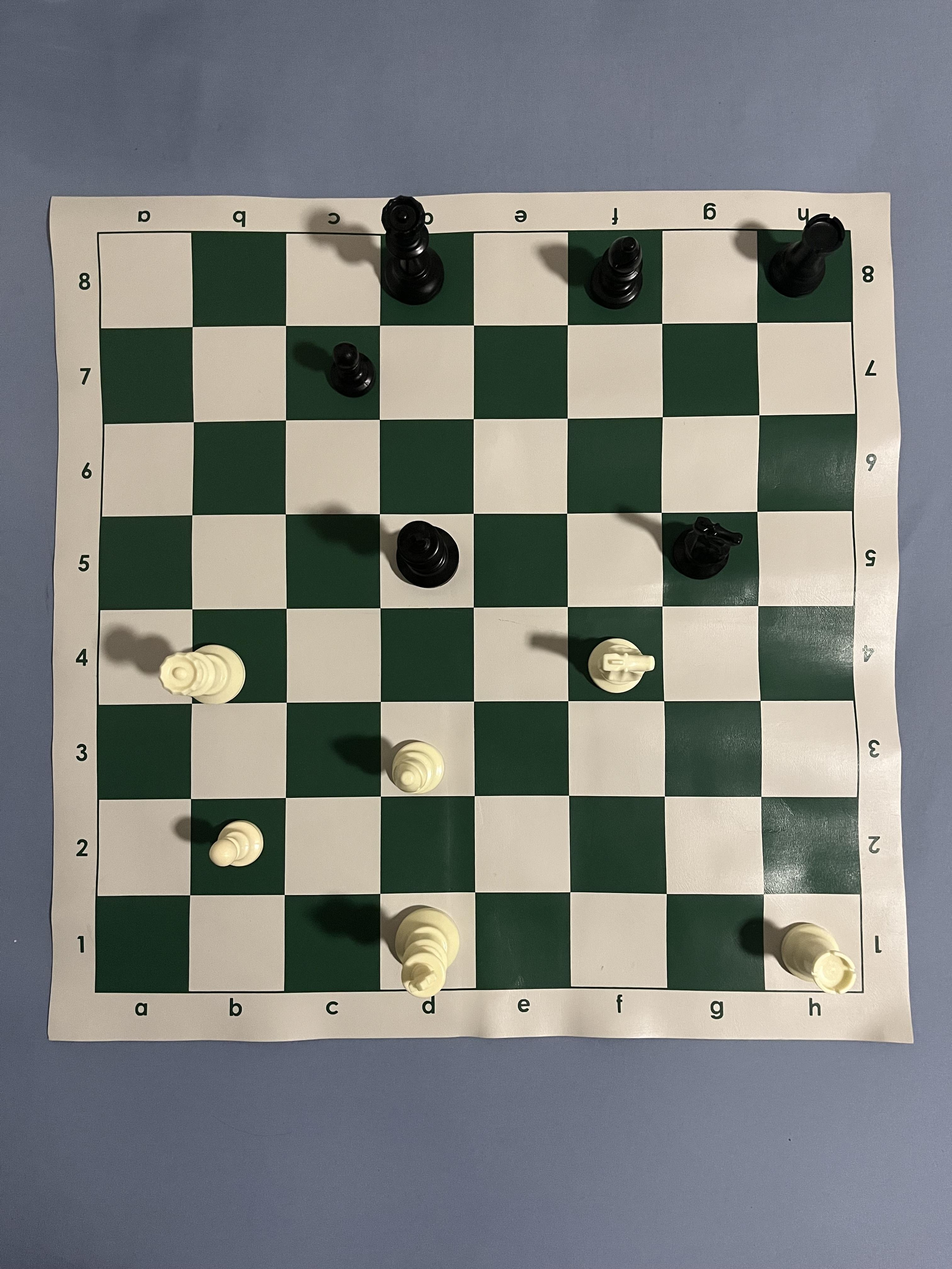black_bishop: (590, 235, 644, 310)
black_king: (394, 520, 461, 589)
black_knight: (671, 517, 743, 581)
black_pawn: (329, 341, 376, 398)
black_queen: (381, 195, 446, 306)
black_rook: (763, 212, 845, 297)
white_bishop: (390, 739, 446, 795)
white_king: (394, 905, 461, 998)
white_knight: (587, 637, 656, 694)
white_pawn: (209, 819, 265, 869)
white_queen: (159, 645, 246, 705)
white_rook: (779, 921, 858, 995)
